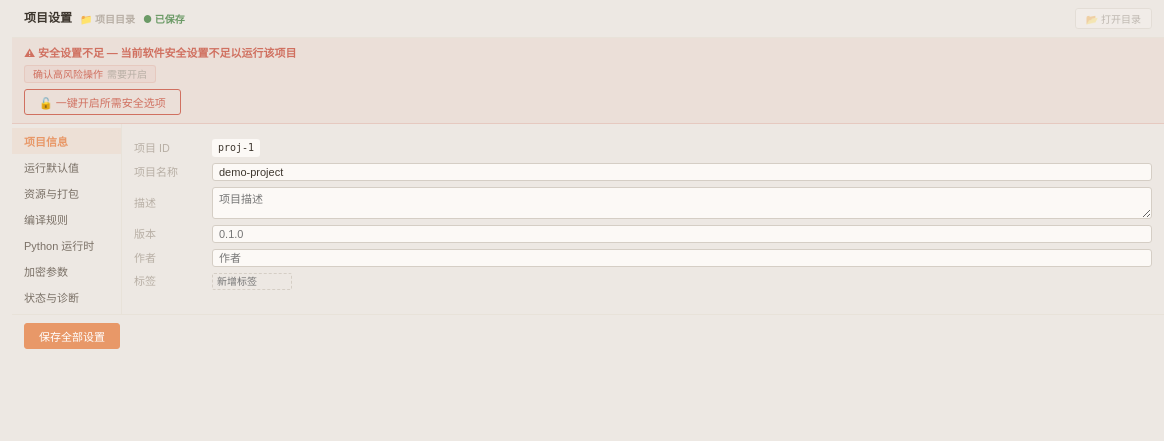
Test: ProjectSettingsPanel › 未注册控件保持禁用显示
The image size is (1164, 441).
Click the button "运行默认值". click: (66, 167)
box: x1=12 y1=154 x2=121 y2=180
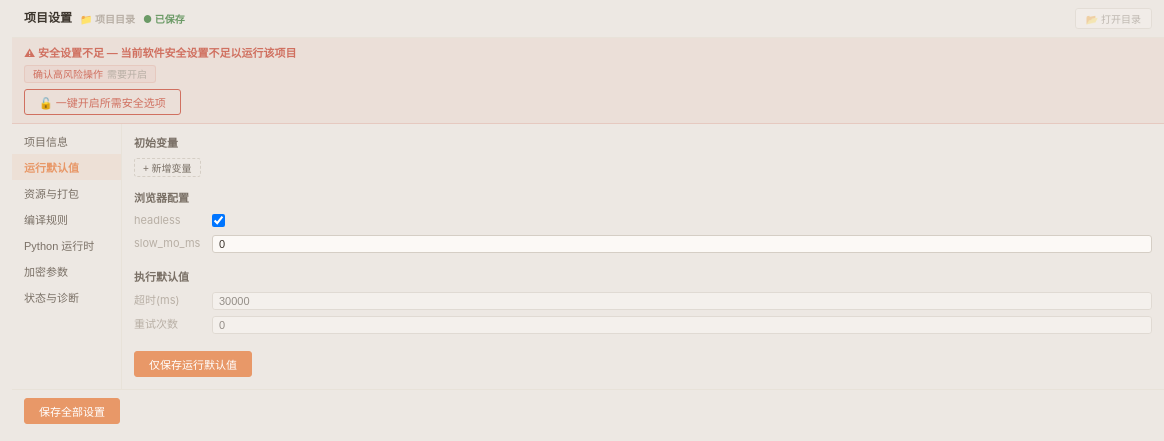
Check: the number field next to "超时(ms)" is disabled, box x1=212 y1=292 x2=1152 y2=310
Check: the number field next to "重试次数" is disabled, box x1=212 y1=316 x2=1152 y2=334
Click the button "编译规则". click: (66, 219)
box: x1=12 y1=206 x2=121 y2=232
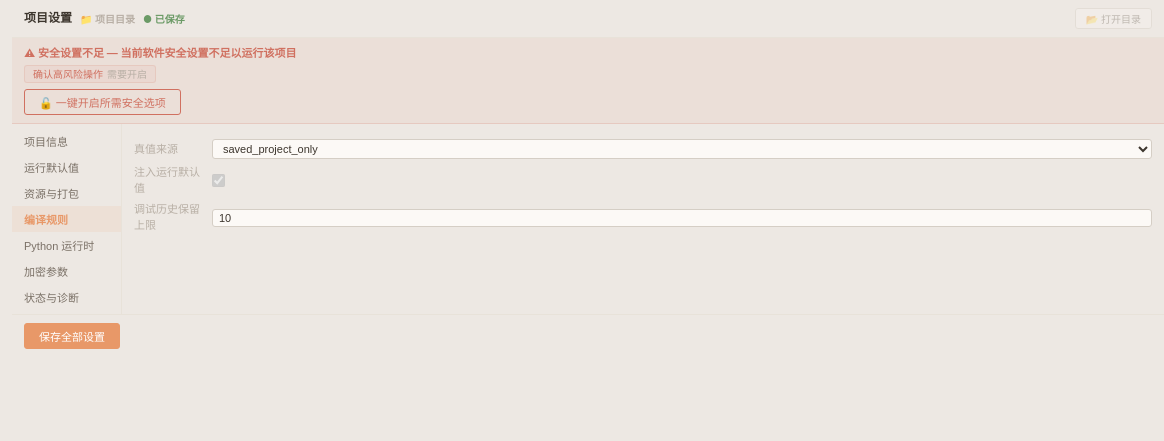
Check: the checkbox is disabled, box x1=212 y1=174 x2=225 y2=187
